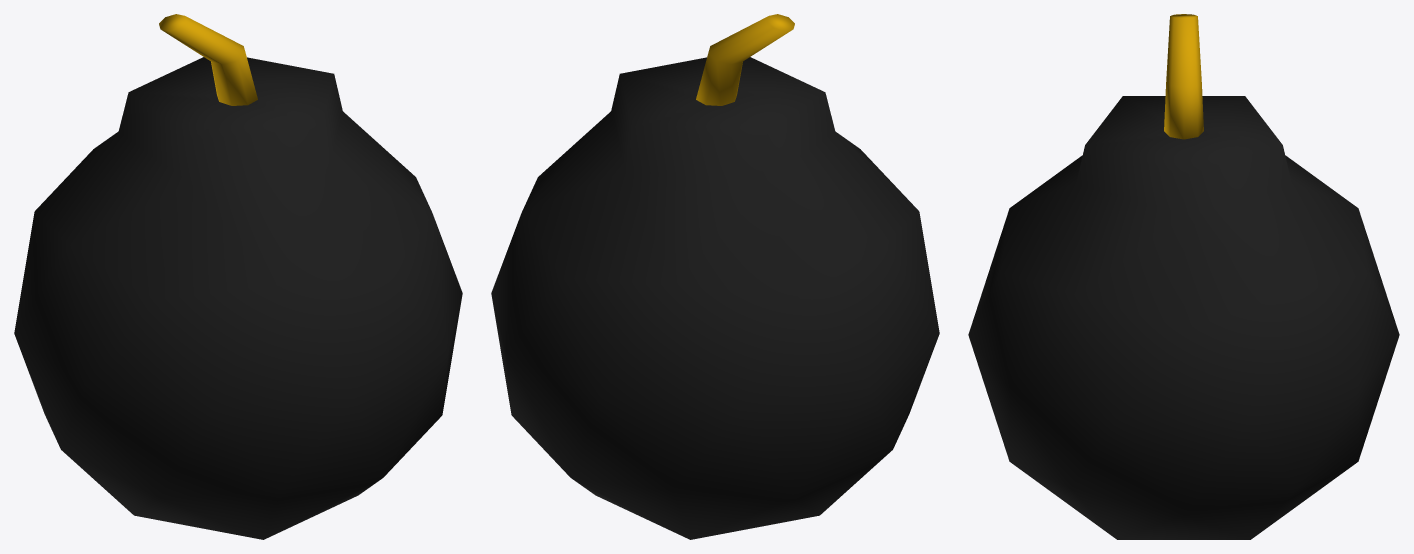
File: bombe1.fbx
3 renders of one model, left to right at view 1: azimuth 30°, elevation 25°; view 2: azimuth 150°, elevation 25°; view 3: azimuth 270°, elevation 25°, orthographic. The views are drawn at different scales.
Parts seen in each view (by area): view 1: bombe1; view 2: bombe1; view 3: bombe1.
Boxes of the visible parts, x1,y1,x2,y2 form: bombe1: [14, 14, 462, 539]; bombe1: [491, 14, 939, 539]; bombe1: [968, 14, 1399, 539].
Bounding box in the file's own units: 1.04 × 1.37 × 1.09.
